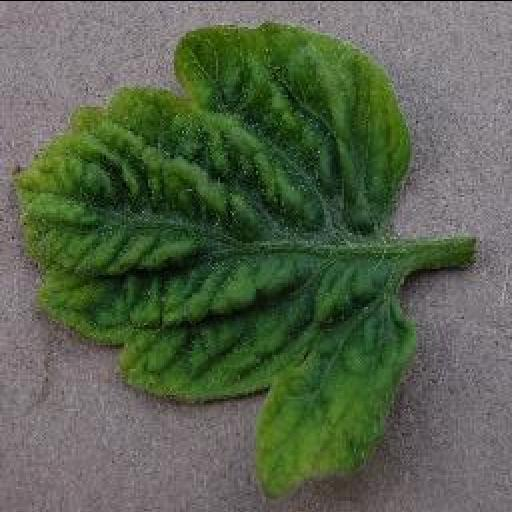disease_tomato: (6, 18, 418, 496)
